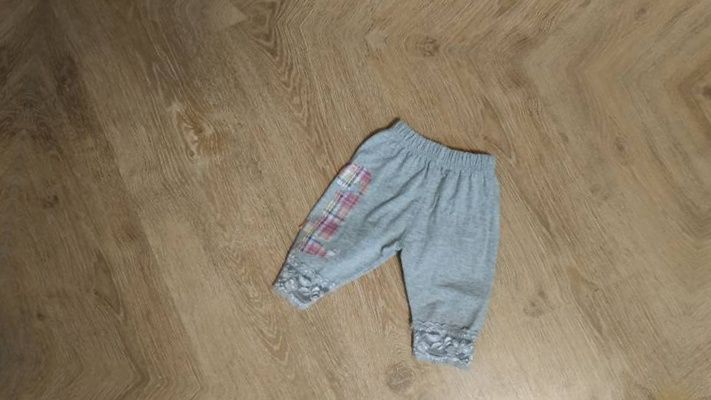Pants: (253, 105, 525, 385)
